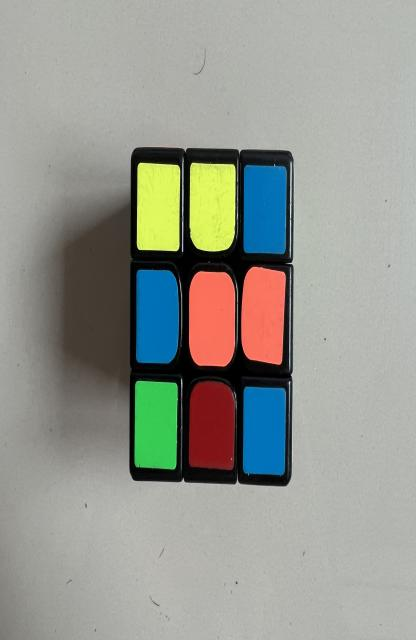Blue: (136, 270, 179, 363), (244, 165, 287, 253), (243, 387, 286, 475)
Green: (134, 380, 178, 470)
Orange: (188, 272, 236, 367), (241, 267, 286, 365)
Red: (188, 382, 236, 470)
Yellow: (189, 163, 236, 252), (136, 163, 180, 252)
